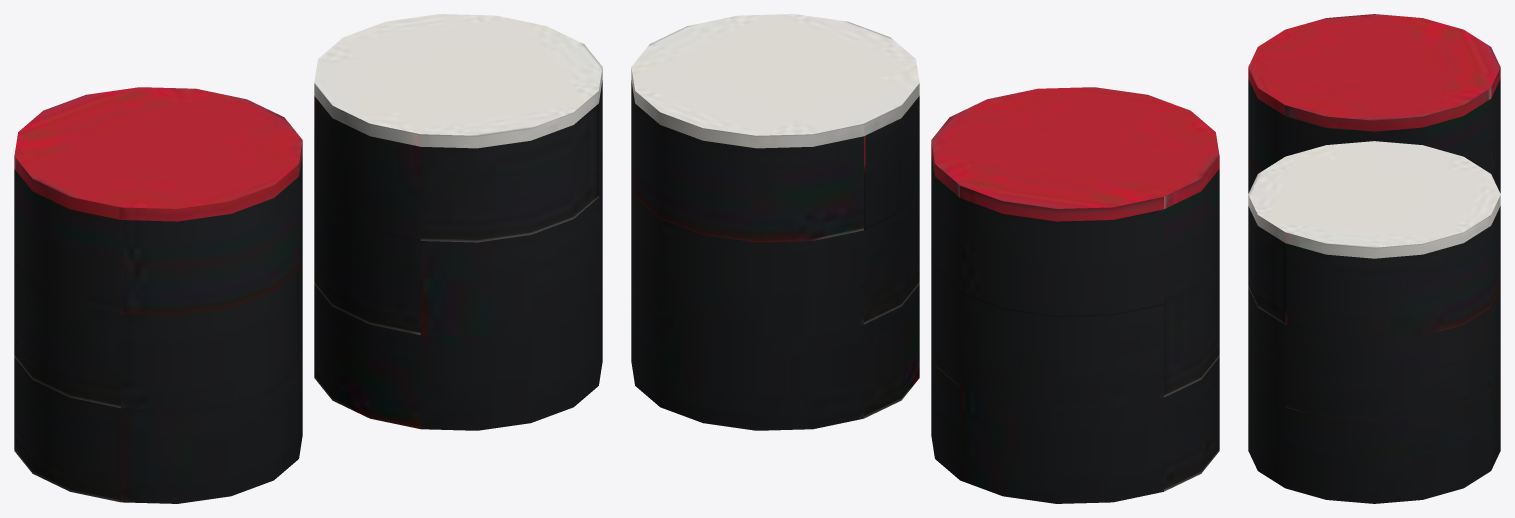
Rendered from pila_neumaticos.glb.
3 views of the same model, side by side, from view 1: azimuth 30°, elevation 25°; view 2: azimuth 150°, elevation 25°; view 3: azimuth 270°, elevation 25° (orthographic). The views are drawn at different scales.
Visible parts, largest first — view 1: pila_neumaticos; view 2: pila_neumaticos; view 3: pila_neumaticos.
Boxes of the visible parts, bbox=[...] form: pila_neumaticos: bbox=[14, 14, 602, 503]; pila_neumaticos: bbox=[631, 14, 1219, 503]; pila_neumaticos: bbox=[1248, 14, 1500, 503].
Size of the model in its own units: 1.84 by 0.94 by 0.84.
Materials: 1 (1 with a texture image).
